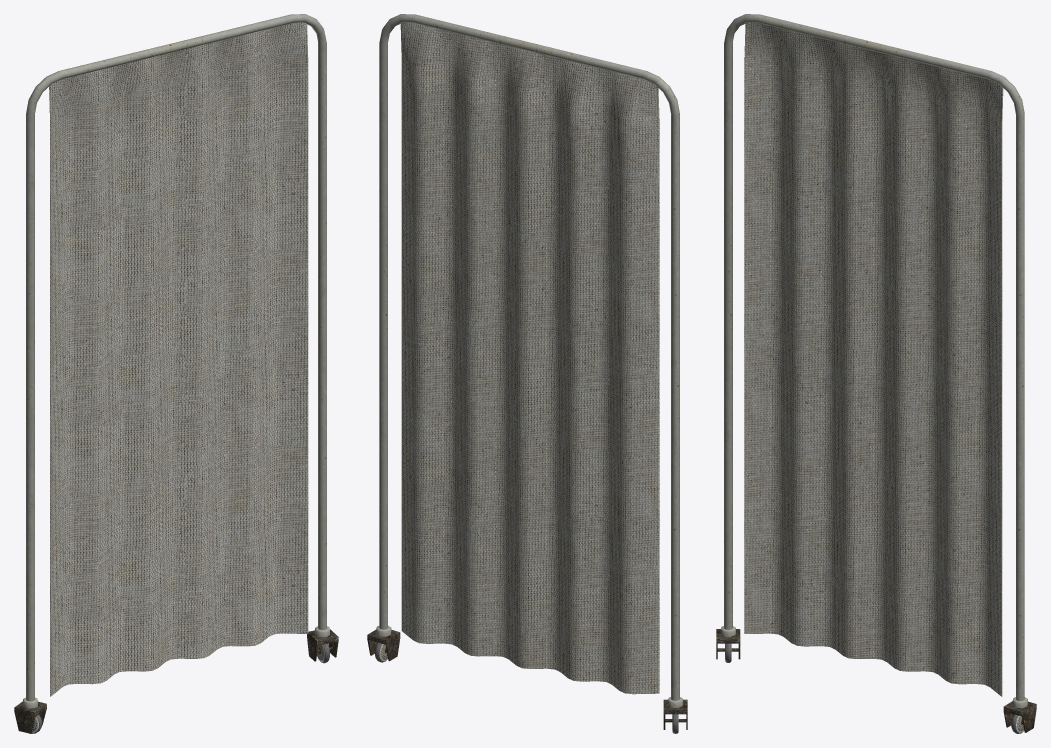
File: BedCurtains.FBX
3 renders of one model, left to right at view 1: azimuth 30°, elevation 25°; view 2: azimuth 150°, elevation 25°; view 3: azimuth 330°, elevation 25°, orthographic.
Visible parts, largest first — view 1: BedCurtains; view 2: BedCurtains; view 3: BedCurtains.
Part boxes in pixels (x1,y1,x2,y2): BedCurtains: (14, 14, 338, 733); BedCurtains: (367, 14, 687, 733); BedCurtains: (716, 14, 1036, 733).
Bounding box in the file's own units: 234 × 461 × 20.73.
